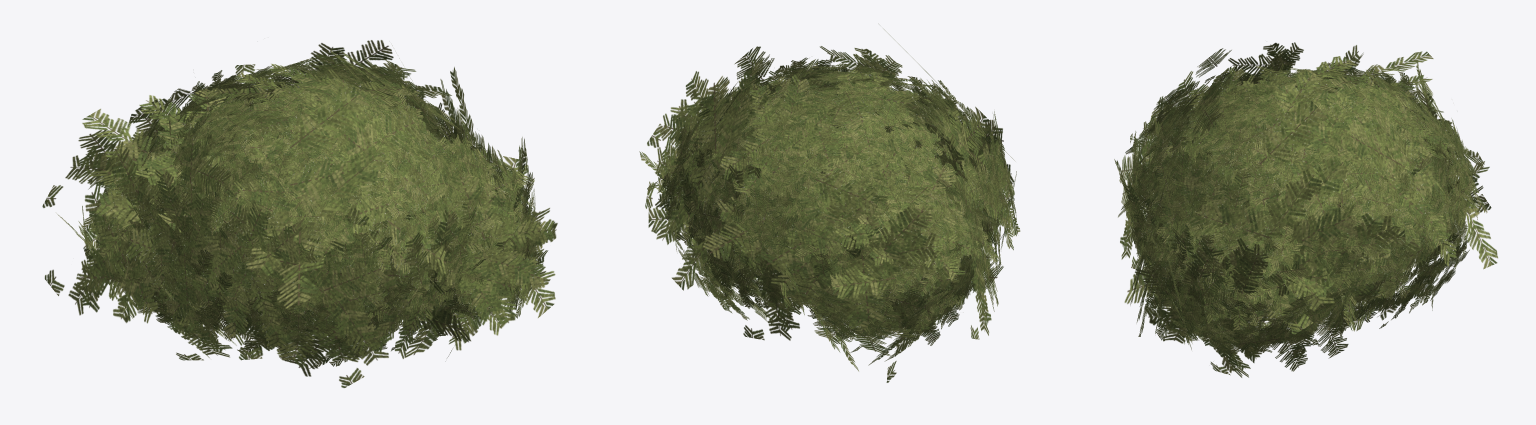
The model's file is bush-0.glb.
3 renders of one model, left to right at view 1: azimuth 30°, elevation 25°; view 2: azimuth 150°, elevation 25°; view 3: azimuth 270°, elevation 25°, orthographic. The views are drawn at different scales.
Visible parts, largest first — view 1: leaves_far, leaves; view 2: leaves_far, leaves; view 3: leaves_far, leaves.
Boxes of the visible parts, left/top/right/bottom form: leaves_far: left=42, top=40, right=557, bottom=387; leaves: left=78, top=58, right=541, bottom=366; leaves_far: left=639, top=29, right=1020, bottom=382; leaves: left=659, top=57, right=1016, bottom=345; leaves_far: left=1114, top=42, right=1497, bottom=377; leaves: left=1123, top=62, right=1477, bottom=353.
Bounding box in the file's own units: 3.16 × 2.25 × 2.71.
2 materials, 2 textured.
